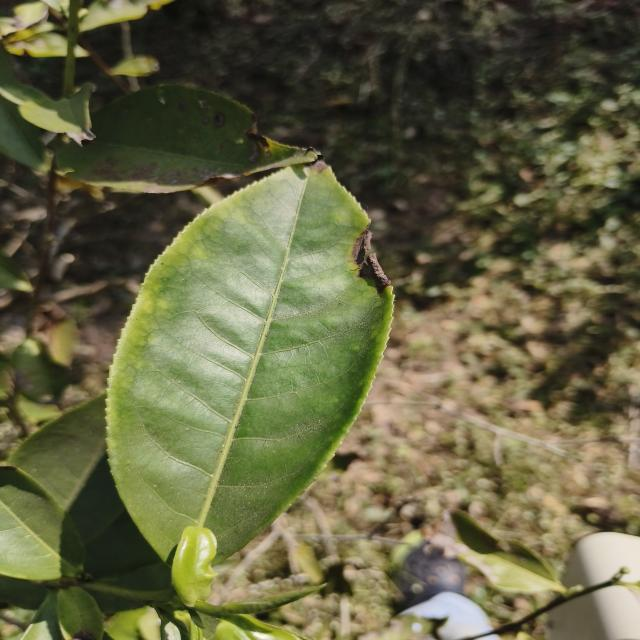Leaf: (107, 161, 394, 560), (57, 84, 316, 193), (8, 394, 126, 549), (0, 466, 84, 580), (451, 511, 566, 593), (18, 83, 95, 144), (12, 338, 69, 403), (0, 96, 48, 172), (172, 526, 217, 607), (57, 586, 104, 640), (79, 0, 150, 32), (5, 29, 68, 57), (75, 46, 89, 57)
